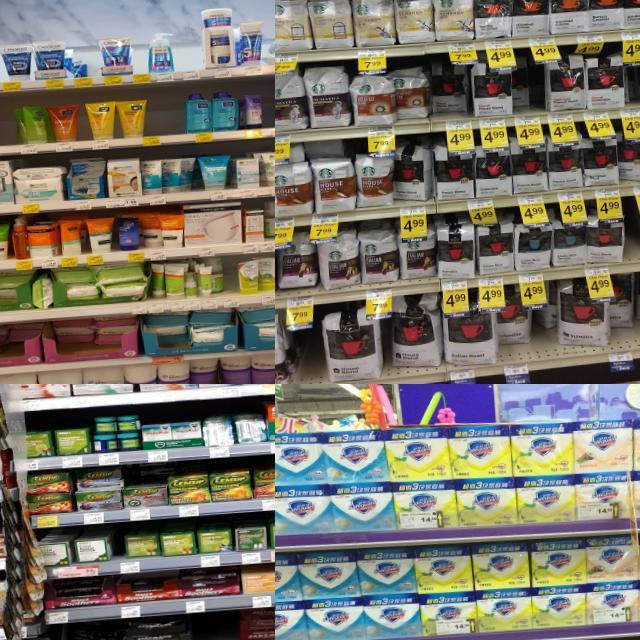empty: (291, 316, 325, 384), (146, 93, 184, 144), (172, 34, 205, 80), (621, 194, 640, 270), (191, 611, 240, 640), (128, 36, 148, 84), (222, 256, 240, 306), (83, 40, 100, 84), (0, 106, 15, 154), (262, 89, 275, 136)
